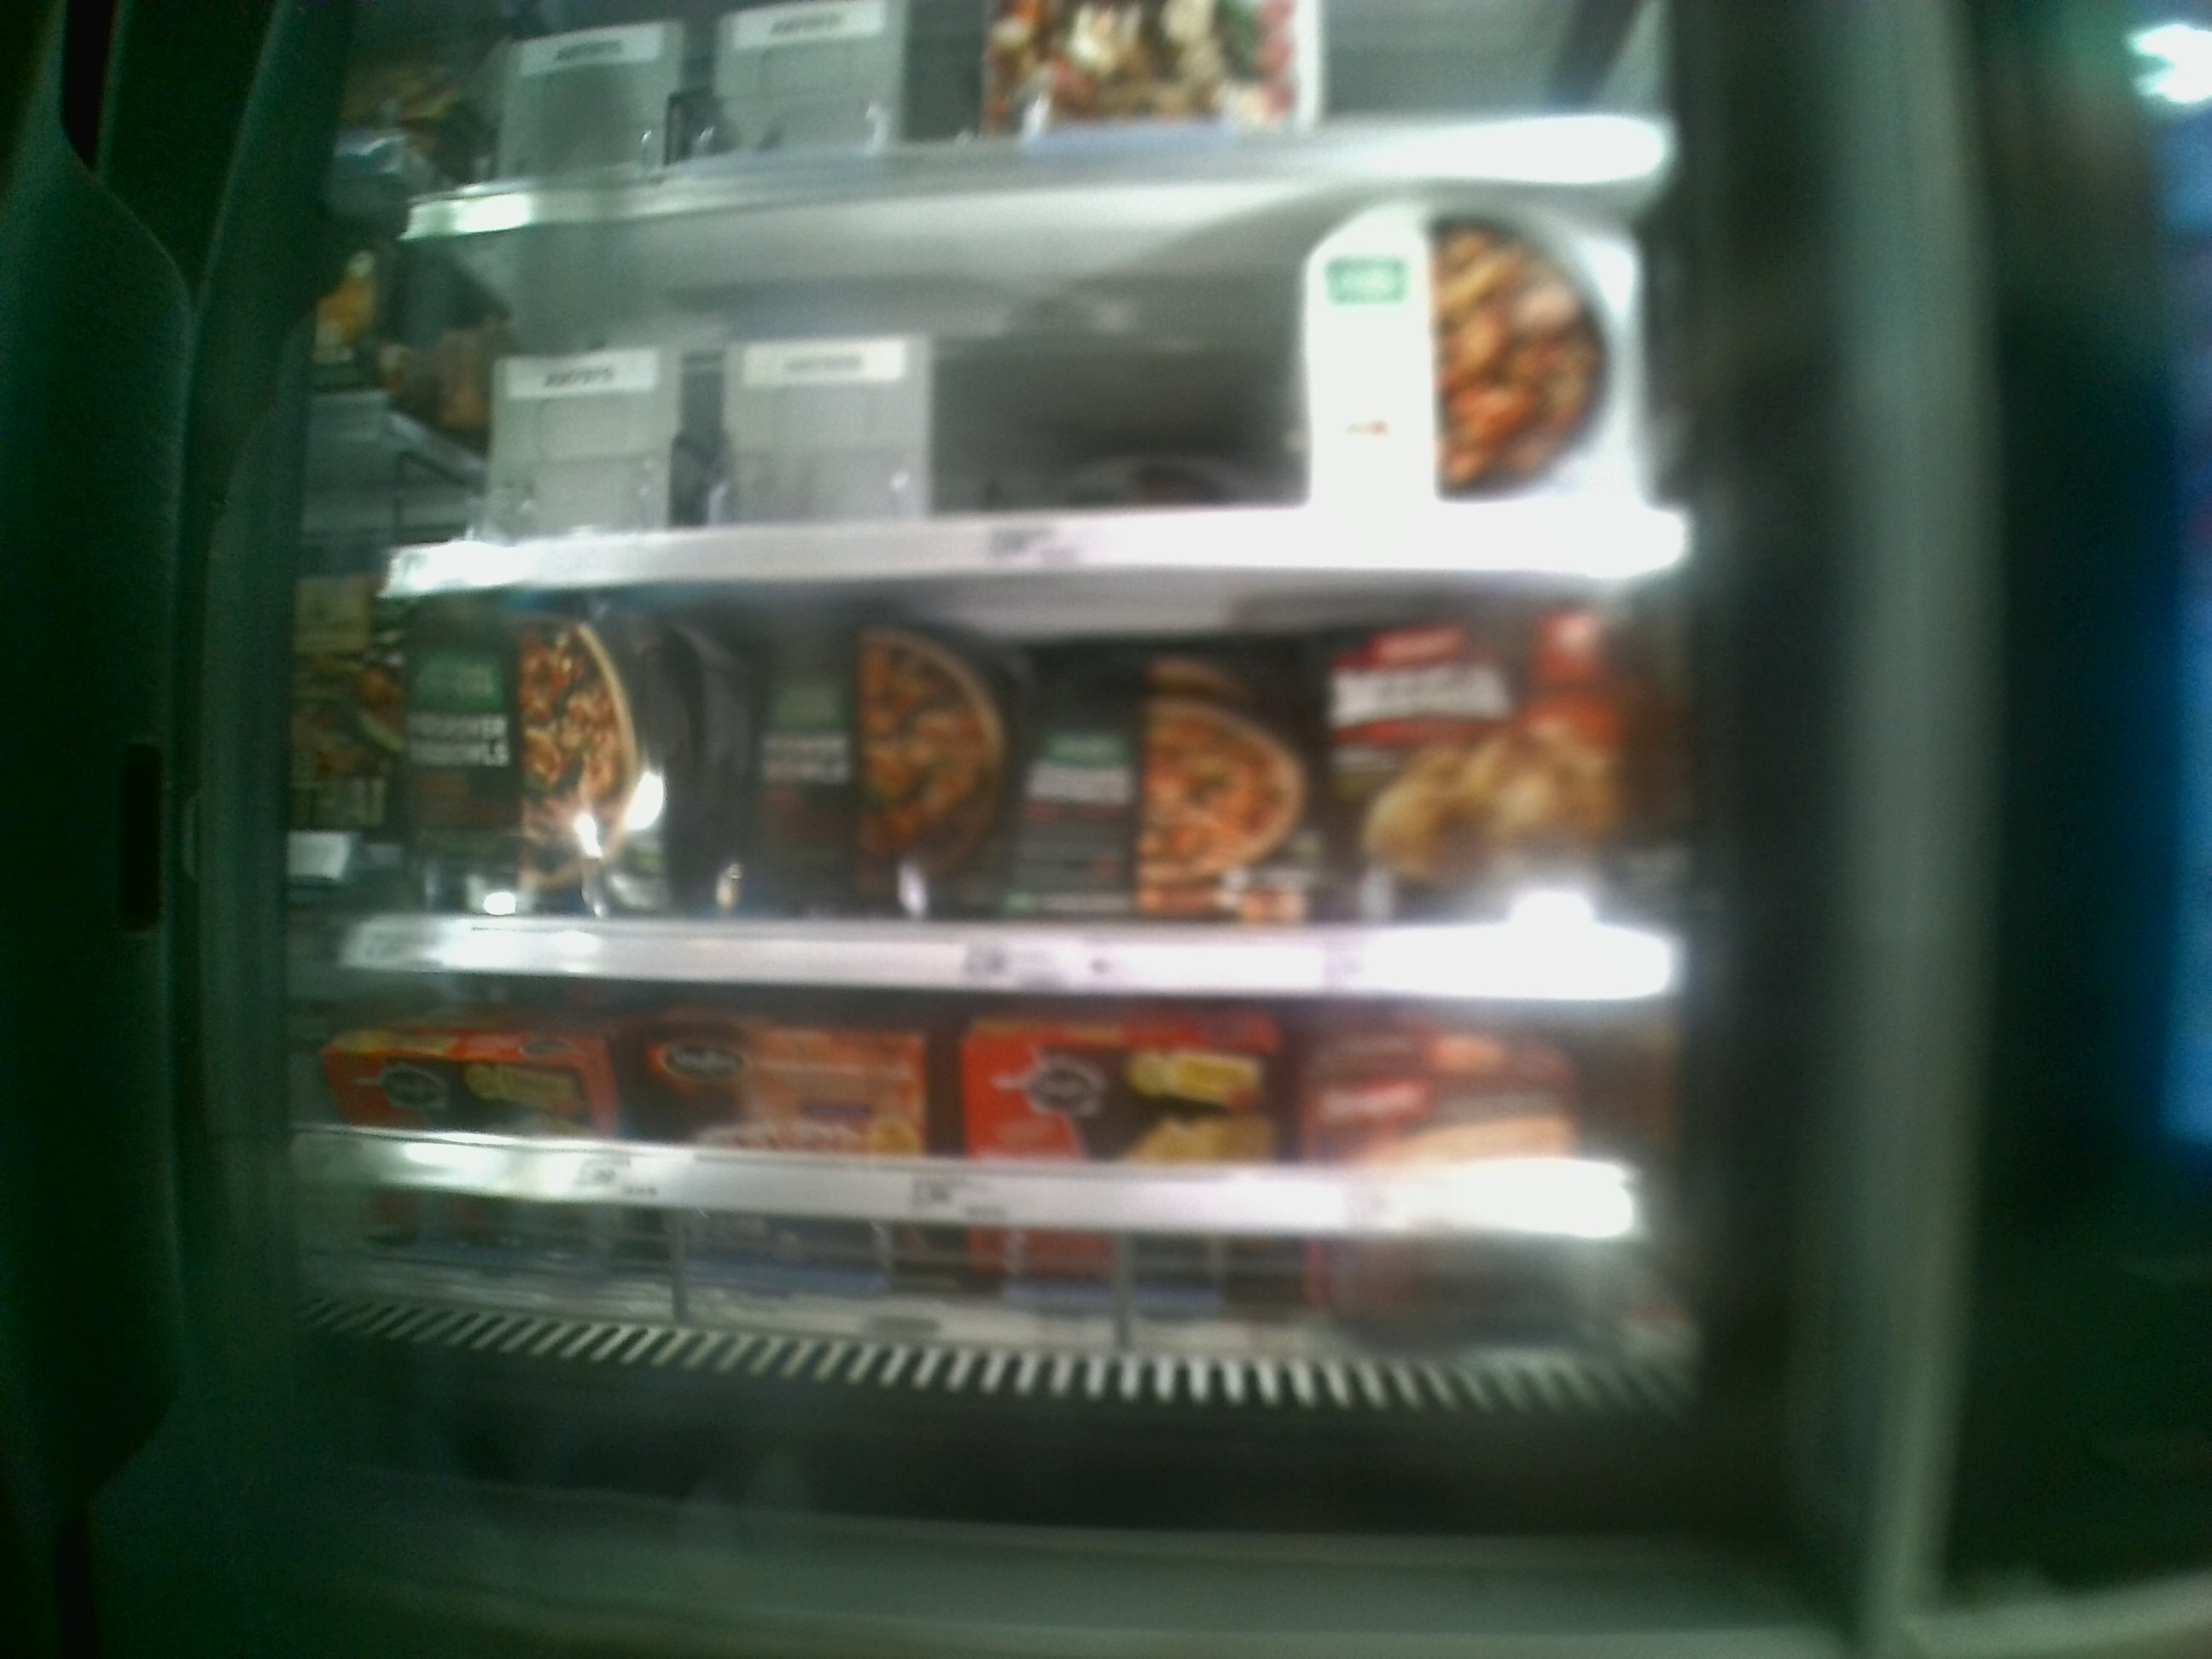shelf: (387, 171, 1684, 586), (329, 974, 1703, 1364), (355, 598, 1684, 997)
